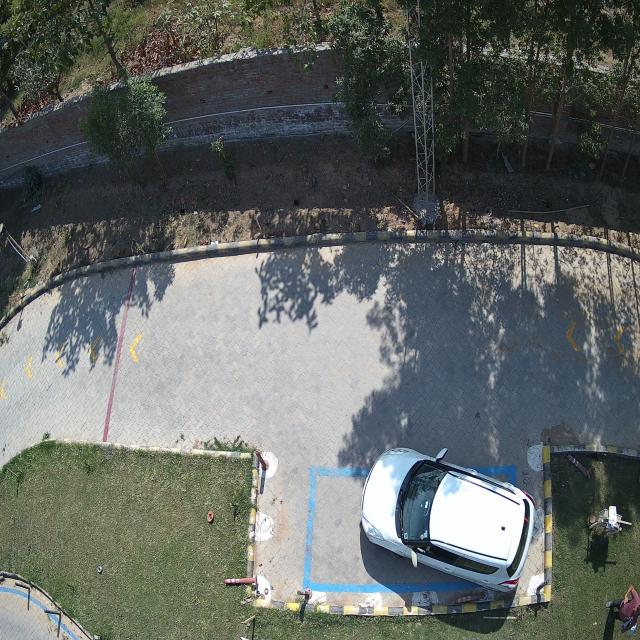car: (360, 447, 538, 594)
